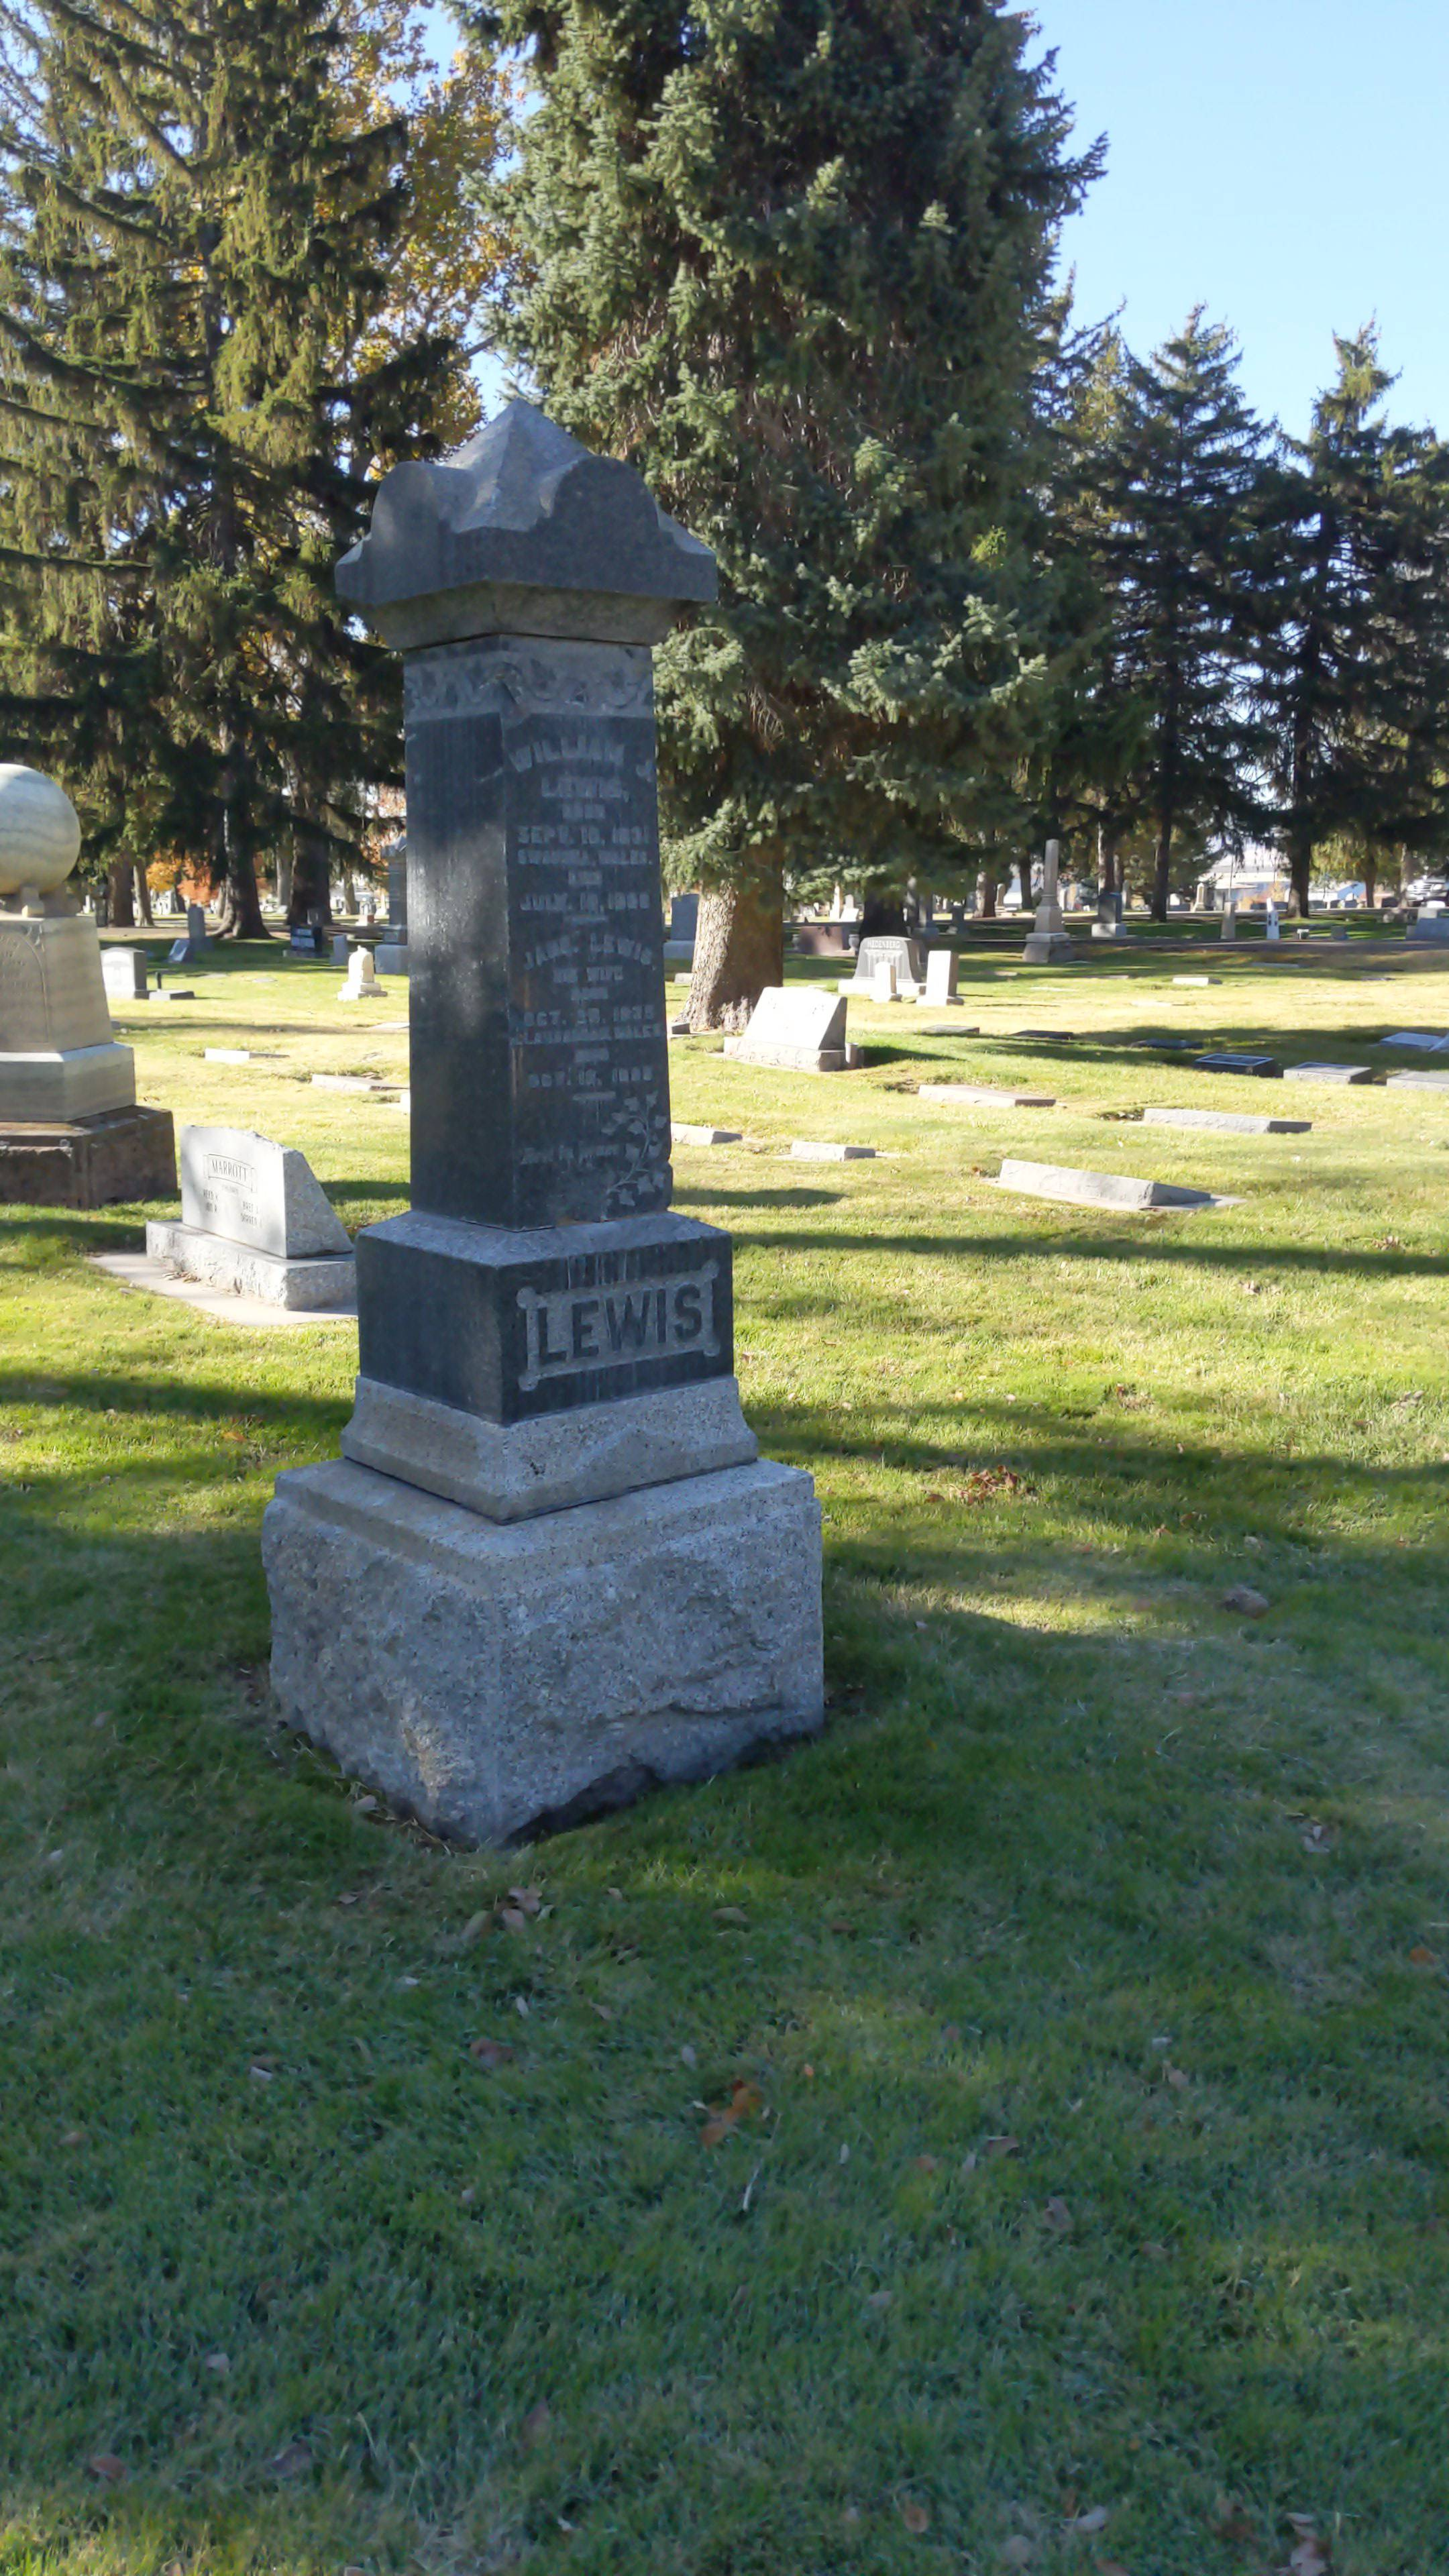obelisk: (326, 402, 757, 1529)
